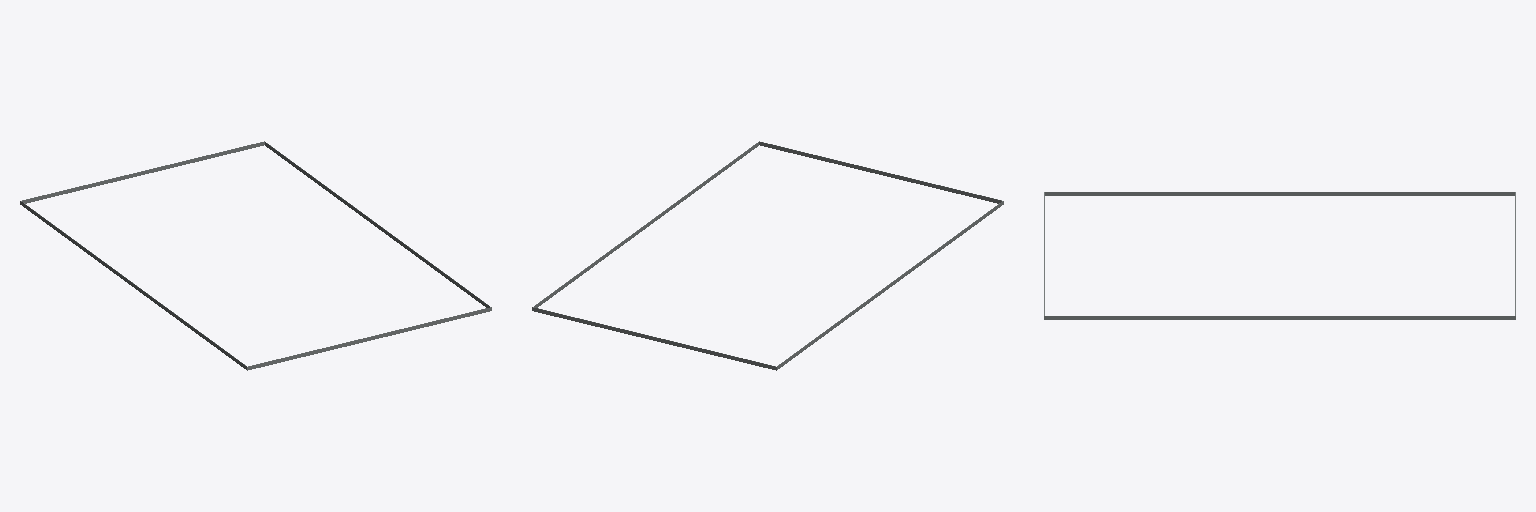
robot.urdf — Cable_Tray:
<?xml version="1.0" encoding="utf-8"?>
<!-- This URDF was automatically created by SolidWorks to URDF Exporter! Originally created by Stephen Brawner ([email redacted]) 
     Commit Version: 1.5.1-0-g916b5db  Build Version: 1.5.7152.31018
     For more information, please see http://wiki.ros.org/sw_urdf_exporter -->
<robot
  name="Cable_Tray">
  <link
    name="base_link">
    <inertial>
      <origin
        xyz="3.34999999999995 -5.4864 2.447"
        rpy="0 0 0" />
      <mass
        value="309.108736805822" />
      <inertia
        ixx="5270.45716121936"
        ixy="-1.46104845534427E-11"
        ixz="-3.28652753149154E-13"
        iyy="2574.1888545759"
        iyz="1.94614779248946E-12"
        izz="7844.11421688156" />
    </inertial>
    <visual>
      <origin
        xyz="0 0 0"
        rpy="0 0 0" />
      <geometry>
        <mesh
          filename="package://Cable_Tray/meshes/base_link.STL" />
      </geometry>
      <material
        name="">
        <color
          rgba="0.529411764705882 0.549019607843137 0.549019607843137 1" />
      </material>
    </visual>
    <collision>
      <origin
        xyz="0 0 0"
        rpy="0 0 0" />
      <geometry>
        <mesh
          filename="package://Cable_Tray/meshes/base_link.STL" />
      </geometry>
    </collision>
  </link>
</robot>

--- Facts derived from the render (not from the file) ---
The picture shows the robot from 3 angles, left to right: view 1: azimuth 30°, elevation 25°; view 2: azimuth 150°, elevation 25°; view 3: azimuth 270°, elevation 25°; orthographic projection.
Robot: Cable_Tray — 1 links, 0 joints (none); root link base_link; default pose: every joint at zero.
Visible links, largest first — view 1: base_link; view 2: base_link; view 3: base_link.
Boxes of the visible links, x1,y1,x2,y2 form: base_link: [20, 141, 491, 370]; base_link: [532, 141, 1003, 370]; base_link: [1044, 192, 1515, 319].
Bounding box of the posed robot: 6.7 × 10.77 × 0.1016 m (x, y, z).
1 mesh visuals loaded from 1 distinct referenced files (1 binary STL).
